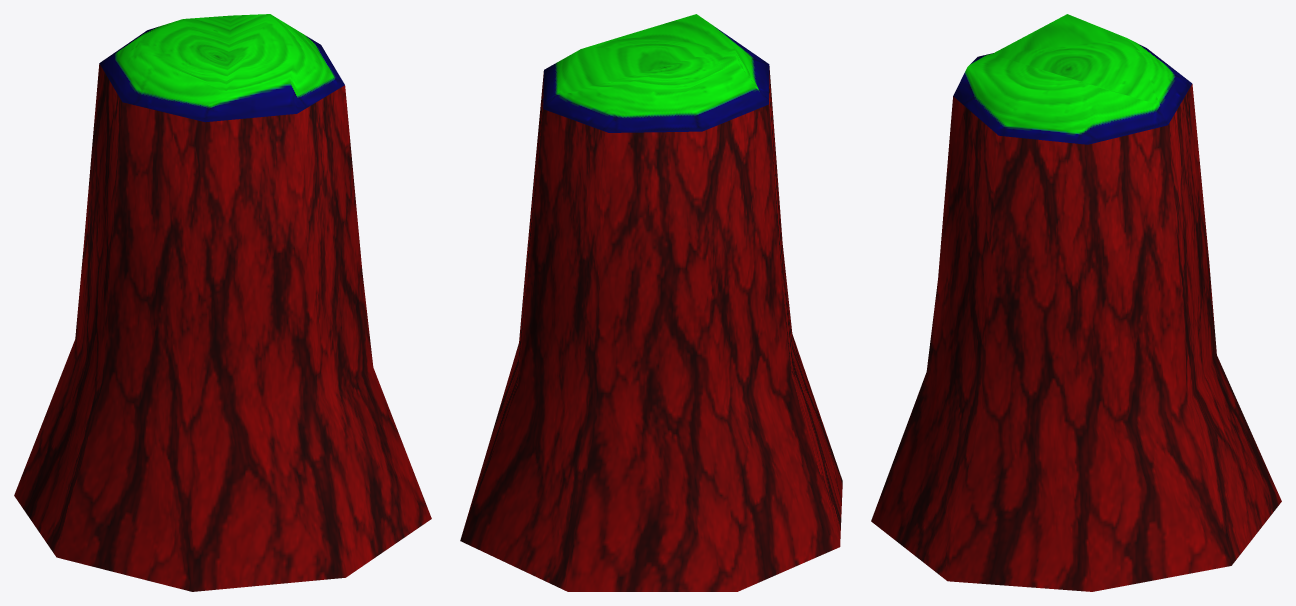
The model's file is PineStump02.fbx.
3 renders of one model, left to right at view 1: azimuth 30°, elevation 25°; view 2: azimuth 150°, elevation 25°; view 3: azimuth 270°, elevation 25°, orthographic. The views are drawn at different scales.
Visible parts, largest first — view 1: PineStump02_LOD0; view 2: PineStump02_LOD0; view 3: PineStump02_LOD0.
Boxes of the visible parts, <box> form: PineStump02_LOD0: <box>14,14,431,591</box>; PineStump02_LOD0: <box>460,14,842,591</box>; PineStump02_LOD0: <box>871,14,1281,591</box>.
Size of what is drawn, in the model's own units: 0.5222 by 0.6842 by 0.553.
